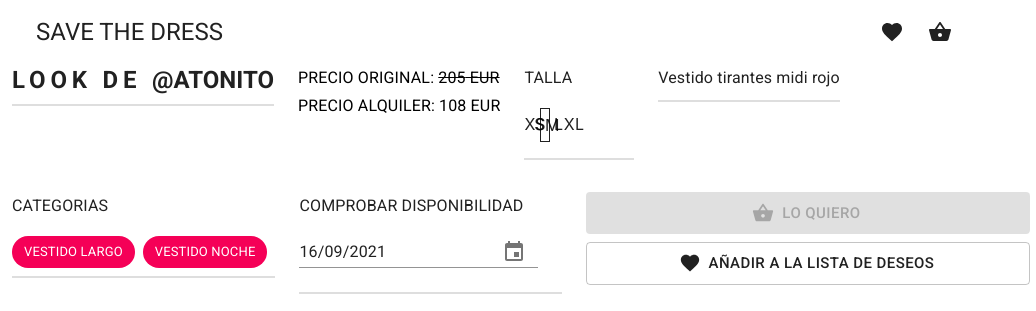
Test: DressDetails test › should adds dress to wish list
The width and height of the screenshot is (1036, 311).
What coordinates should you click on to do the following:
click the button with test id "DressDetails-addToWishListButton"
I would click on:
 (808, 263)
Its box is [586, 242, 1030, 285].
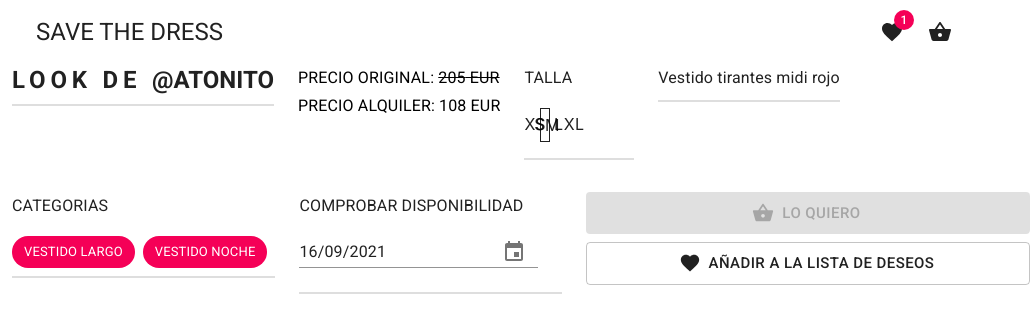
Expected: the element with test id "header-wishes" reads "1", [901, 13, 907, 27]
